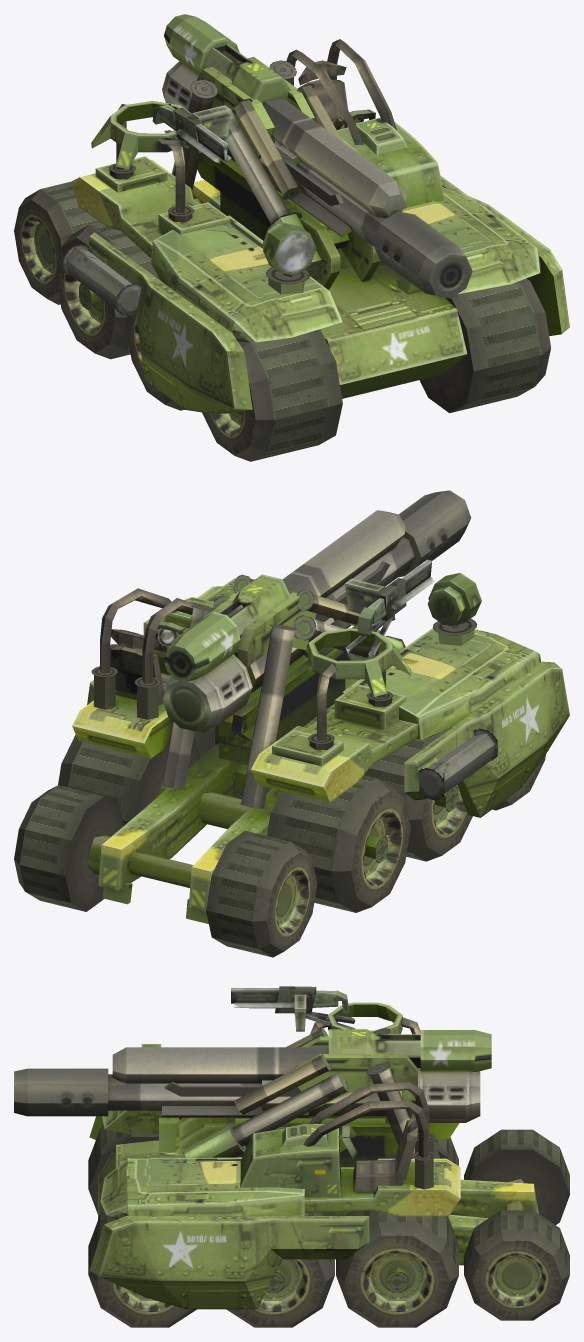
The model's file is VWFARTH.obj.
3 views of the same model, one above another, from view 1: azimuth 30°, elevation 25°; view 2: azimuth 150°, elevation 25°; view 3: azimuth 270°, elevation 25° (orthographic). The views are drawn at different scales.
Parts seen in each view (by area): view 1: Node 0, Node 19, Node 15, Node 2, Node 7, Node 22, Node 21, Node 38, Node 5, Node 12, Node 25, Node 6 (+3 smaller); view 2: Node 0, Node 21, Node 22, Node 2, Node 18, Node 36, Node 17, Node 5, Node 20, Node 7, Node 12, Node 38 (+2 smaller); view 3: Node 0, Node 2, Node 17, Node 18, Node 7, Node 22, Node 5, Node 38, Node 16, Node 15, Node 12, Node 6 (+4 smaller).
Part boxes in pixels (left/top/right/bottom): Node 0: left=63, top=39, right=569, bottom=413; Node 19: left=202, top=329, right=342, bottom=461; Node 15: left=419, top=278, right=550, bottom=413; Node 2: left=162, top=61, right=472, bottom=298; Node 7: left=262, top=97, right=406, bottom=217; Node 22: left=14, top=181, right=99, bottom=304; Node 21: left=55, top=222, right=158, bottom=359; Node 38: left=223, top=83, right=343, bottom=223; Node 5: left=164, top=14, right=291, bottom=103; Node 12: left=152, top=104, right=231, bottom=163; Node 25: left=262, top=222, right=316, bottom=275; Node 6: left=196, top=57, right=314, bottom=158; Node 0: left=72, top=578, right=569, bottom=923; Node 21: left=267, top=775, right=410, bottom=912; Node 22: left=206, top=830, right=317, bottom=957; Node 2: left=163, top=490, right=471, bottom=732; Node 18: left=14, top=785, right=123, bottom=911; Node 36: left=159, top=605, right=297, bottom=808; Node 17: left=58, top=734, right=199, bottom=825; Node 5: left=163, top=574, right=290, bottom=681; Node 20: left=364, top=728, right=472, bottom=861; Node 7: left=283, top=510, right=405, bottom=597; Node 12: left=344, top=559, right=435, bottom=634; Node 38: left=212, top=574, right=370, bottom=657; Node 0: left=89, top=1002, right=538, bottom=1309; Node 2: left=14, top=1068, right=480, bottom=1122; Node 17: left=336, top=1210, right=458, bottom=1327; Node 18: left=464, top=1210, right=569, bottom=1320; Node 7: left=112, top=1047, right=328, bottom=1083; Node 22: left=464, top=1129, right=569, bottom=1224; Node 5: left=328, top=1029, right=491, bottom=1071; Node 38: left=232, top=1026, right=348, bottom=1146; Node 16: left=226, top=1212, right=334, bottom=1327; Node 15: left=88, top=1211, right=196, bottom=1327; Node 12: left=231, top=986, right=348, bottom=1031; Node 6: left=296, top=1036, right=417, bottom=1109.
Bounding box in the file's own units: 5.2 × 3.64 × 7.67.
Materials: 37 (37 with a texture image).
